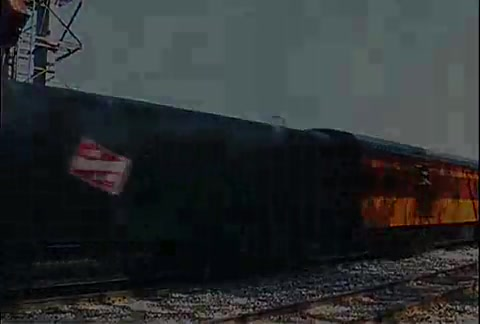train: (2, 2, 479, 288)
